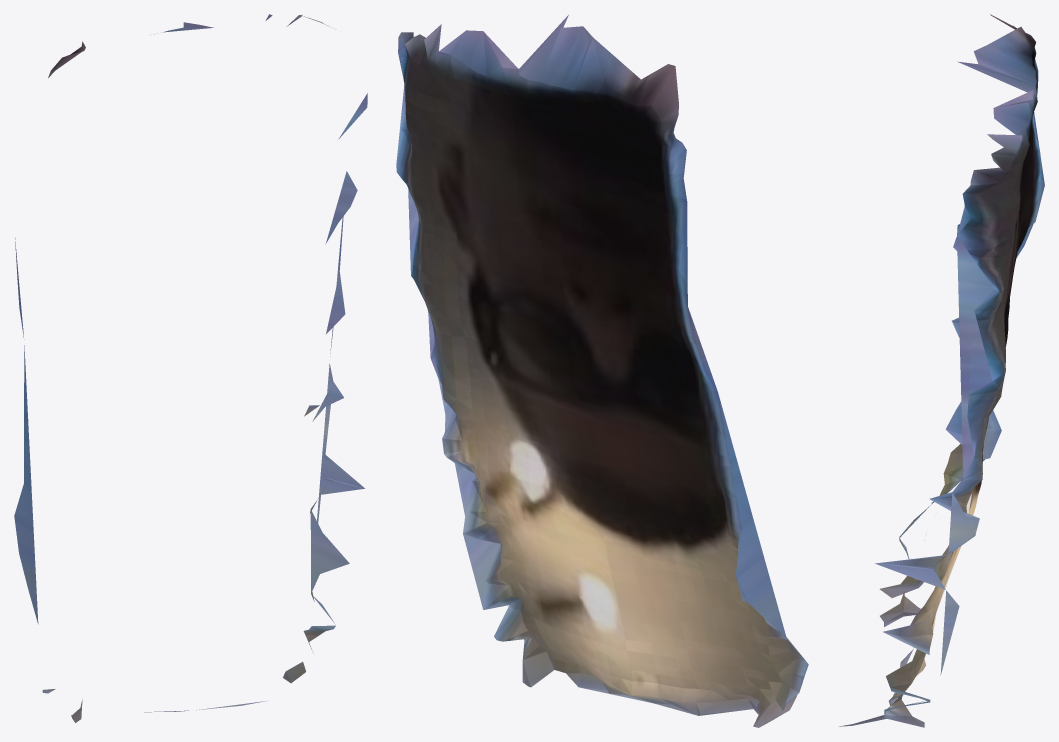
File: observed-surface.glb
The picture shows the model from 3 angles, left to right: view 1: azimuth 30°, elevation 25°; view 2: azimuth 150°, elevation 25°; view 3: azimuth 270°, elevation 25°; orthographic projection. The views are drawn at different scales.
Parts seen in each view (by area): view 1: geometry_0; view 2: geometry_0; view 3: geometry_0.
Part boxes in pixels (left/top/right/bottom): geometry_0: left=14, top=14, right=367, bottom=722; geometry_0: left=396, top=15, right=808, bottom=727; geometry_0: left=839, top=14, right=1044, bottom=727.
Size of the model in its own units: 0.2334 by 0.4193 by 0.1225.
1 material, 1 textured.
